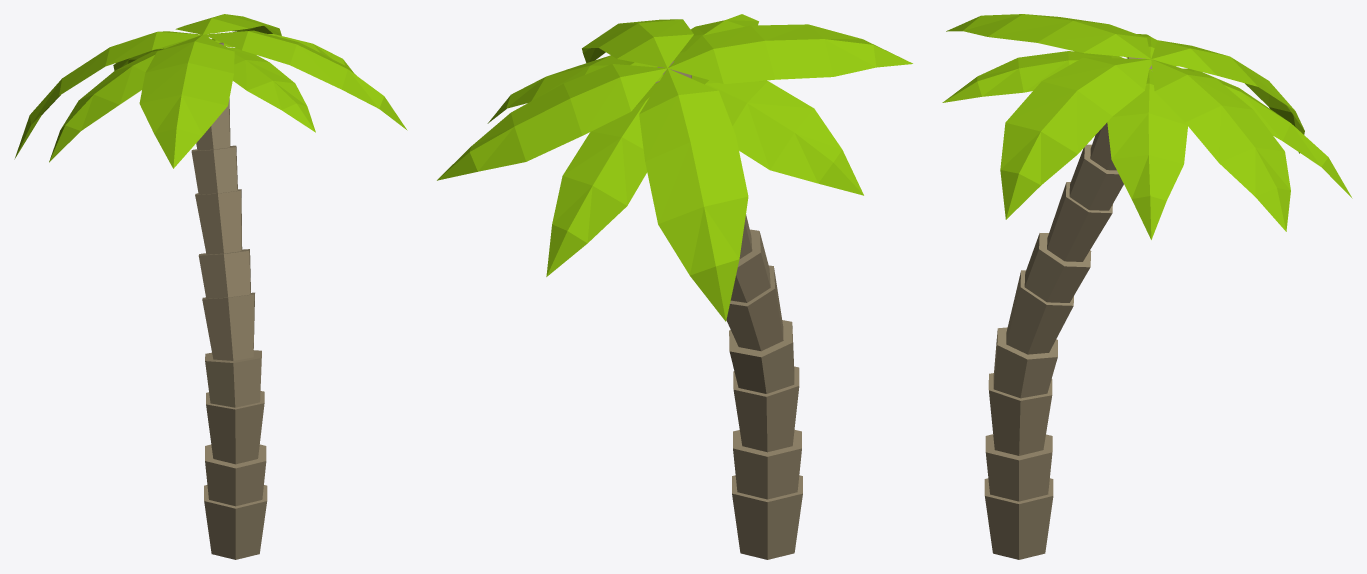
Rendered from palm3.fbx.
The picture shows the model from 3 angles, left to right: view 1: azimuth 30°, elevation 25°; view 2: azimuth 150°, elevation 25°; view 3: azimuth 270°, elevation 25°; orthographic projection. The views are drawn at different scales.
Parts seen in each view (by area): view 1: palm3; view 2: palm3; view 3: palm3.
Part boxes in pixels (left/top/right/bottom): palm3: left=14, top=14, right=407, bottom=559; palm3: left=437, top=14, right=912, bottom=559; palm3: left=942, top=14, right=1352, bottom=559.
Size of the model in its own units: 158 by 220 by 159.
